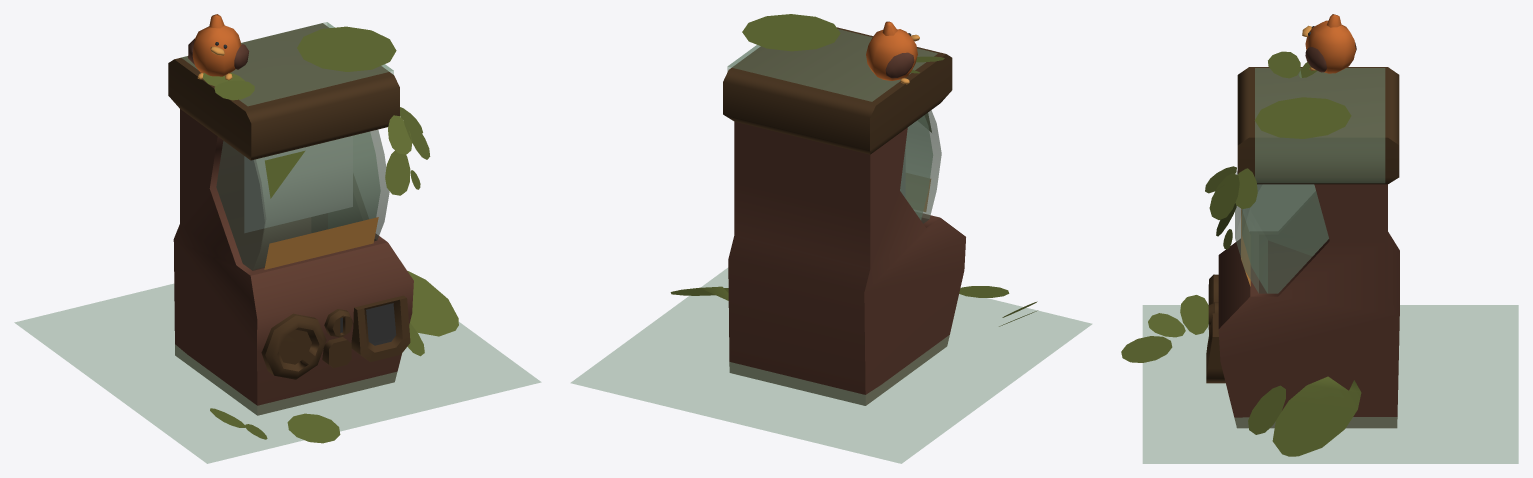
The model's file is gachamachine.fbx.
The picture shows the model from 3 angles, left to right: view 1: azimuth 30°, elevation 25°; view 2: azimuth 150°, elevation 25°; view 3: azimuth 270°, elevation 25°; orthographic projection. The views are drawn at different scales.
Parts seen in each view (by area): view 1: cabinet, waterbase, water_overlay, fish, waterfall, lilypad1, dispenserknob, spinnerknob, logo_bottom, bigleaf, base, lilypad2 (+7 smaller); view 2: cabinet, waterbase, waterfall, lilypad1, water_overlay, base, r_wing; view 3: cabinet, waterbase, waterfall, water_overlay, bigleaf, lilypad1, base, leaf10, lilypad2, leaf1, leaf6, dispenserknob (+3 smaller).
Boxes of the visible parts, box(x1,y1,x2,y2) form: cabinet: box(168, 23, 413, 415); waterbase: box(14, 283, 541, 463); water_overlay: box(216, 132, 380, 269); fish: box(244, 136, 352, 232); waterfall: box(181, 22, 393, 106); lilypad1: box(297, 26, 396, 71); dispenserknob: box(351, 295, 410, 362); spinnerknob: box(261, 313, 326, 379); logo_bottom: box(264, 217, 378, 269); bigleaf: box(407, 271, 458, 336); base: box(192, 14, 241, 76); lilypad2: box(287, 413, 340, 443); cabinet: box(723, 27, 965, 405); waterbase: box(571, 268, 1091, 463); waterfall: box(727, 29, 937, 101); lilypad1: box(742, 14, 840, 51); water_overlay: box(900, 116, 932, 219); base: box(866, 21, 917, 80); r_wing: box(885, 52, 914, 78); cabinet: box(1218, 67, 1399, 428); waterbase: box(1142, 305, 1518, 463); waterfall: box(1255, 68, 1385, 183); water_overlay: box(1242, 184, 1328, 293); bigleaf: box(1272, 376, 1361, 456); lilypad1: box(1254, 97, 1351, 138); base: box(1305, 14, 1355, 73); leaf10: box(1248, 385, 1285, 434); lilypad2: box(1121, 336, 1172, 362); leaf1: box(1209, 173, 1239, 219); leaf6: box(1180, 295, 1208, 334); dispenserknob: box(1206, 313, 1225, 383).
Size of the model in its own units: 11.12 by 11.48 by 11.75.
